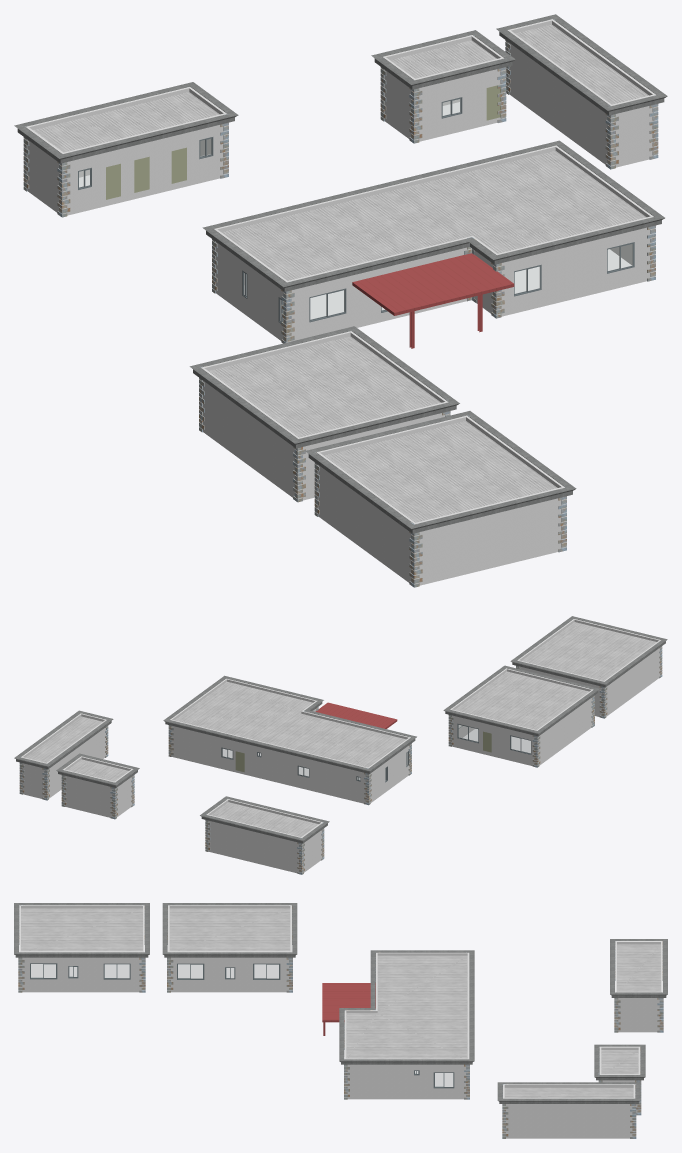
Rendered from Plan(REF)_levels(1)_window(REF)_wall(WAFRA WALL)_quoin(Y)_cornice(Y).fbx.
The picture shows the model from 3 angles, top to bottom: view 1: azimuth 30°, elevation 25°; view 2: azimuth 150°, elevation 25°; view 3: azimuth 270°, elevation 25°; orthographic projection. The views are drawn at different scales.
Parts seen in each view (by area): view 1: WAFRA Stucco - White Rough 23, WAFRA Roof - Corrugated Sheet Matte 23, Concrete - Structural, WAFRA Stone - Slate Natural 23, WAFRA Roof - Standing Seam Red Coat 23, Glass - Clear, Color - Beige, Metal - Finish - Aluminum, Color - White; view 2: WAFRA Stucco - White Rough 23, WAFRA Roof - Corrugated Sheet Matte 23, Concrete - Structural, WAFRA Stone - Slate Natural 23, WAFRA Roof - Standing Seam Red Coat 23, Glass - Clear, Metal - Finish - Aluminum, Color - White; view 3: WAFRA Roof - Corrugated Sheet Matte 23, WAFRA Stucco - White Rough 23, Concrete - Structural, WAFRA Stone - Slate Natural 23, Glass - Clear, WAFRA Roof - Standing Seam Red Coat 23, Metal - Finish - Aluminum, Color - White.
Boxes of the visible parts, x1,y1,x2,y2 form: WAFRA Stucco - White Rough 23: (25, 19, 656, 585); WAFRA Roof - Corrugated Sheet Matte 23: (33, 24, 648, 522); Concrete - Structural: (14, 14, 667, 533); WAFRA Stone - Slate Natural 23: (23, 19, 658, 587); WAFRA Roof - Standing Seam Red Coat 23: (352, 253, 514, 348); Glass - Clear: (79, 99, 632, 320); Color - Beige: (106, 85, 500, 199); Metal - Finish - Aluminum: (78, 97, 634, 323); Color - White: (24, 41, 657, 584); WAFRA Stucco - White Rough 23: (21, 619, 661, 873); WAFRA Roof - Corrugated Sheet Matte 23: (25, 622, 656, 836); Concrete - Structural: (14, 616, 667, 843); WAFRA Stone - Slate Natural 23: (19, 619, 662, 874); WAFRA Roof - Standing Seam Red Coat 23: (315, 702, 397, 728); Glass - Clear: (223, 725, 530, 779); Metal - Finish - Aluminum: (221, 723, 531, 782); Color - White: (20, 647, 661, 872); WAFRA Roof - Corrugated Sheet Matte 23: (21, 908, 660, 1097); WAFRA Stucco - White Rough 23: (19, 905, 662, 1138); Concrete - Structural: (14, 903, 667, 1103); WAFRA Stone - Slate Natural 23: (18, 905, 663, 1138); Glass - Clear: (31, 964, 452, 1086); WAFRA Roof - Standing Seam Red Coat 23: (322, 983, 375, 1035); Metal - Finish - Aluminum: (30, 963, 454, 1088); Color - White: (18, 948, 662, 1136).
Bounding box in the file's own units: 4244 × 5930 × 400.
Materials: 13 (6 with a texture image).
